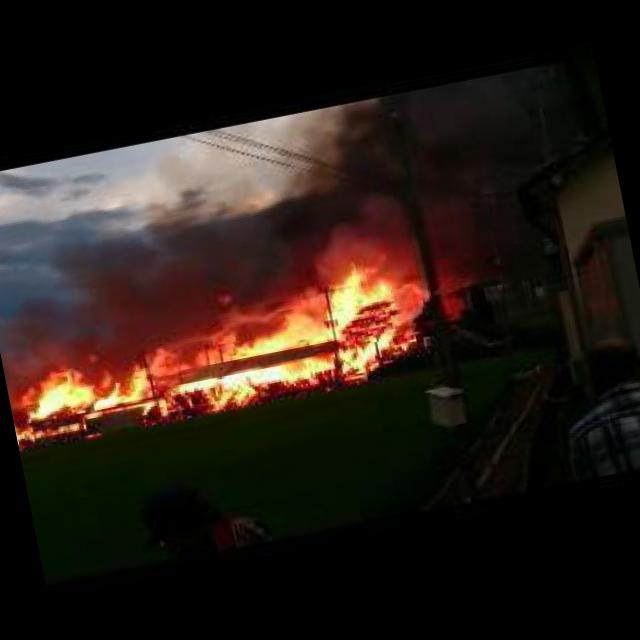fire: (0, 255, 422, 449)
smoke: (0, 180, 328, 371)
